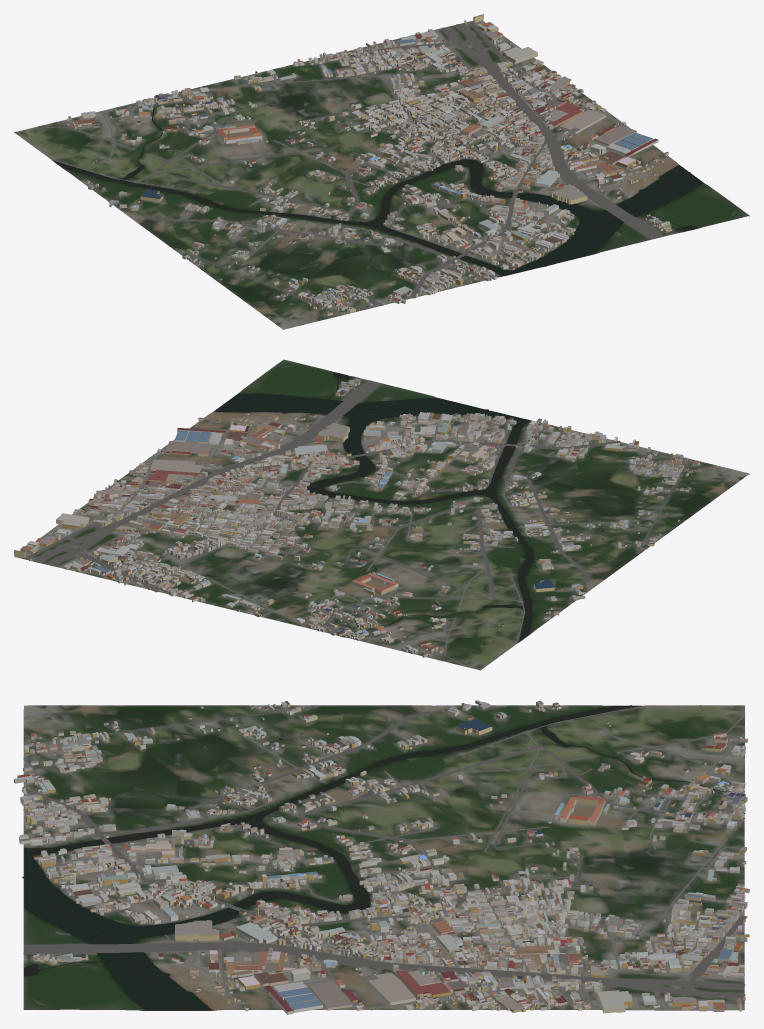
3 views of the same model, one above another, from view 1: azimuth 30°, elevation 25°; view 2: azimuth 150°, elevation 25°; view 3: azimuth 270°, elevation 25° (orthographic). The views are drawn at different scales.
Parts seen in each view (by area): view 1: ground, buildings, roads, water; view 2: ground, buildings, roads, water; view 3: ground, buildings, roads, water.
Boxes of the visible parts, box(x1,y1,x2,y2) form: ground: box(14, 20, 749, 329); buildings: box(67, 14, 671, 315); roads: box(20, 21, 670, 314); water: box(53, 104, 703, 276); ground: box(14, 359, 749, 670); buildings: box(14, 379, 699, 657); roads: box(23, 380, 689, 668); water: box(214, 372, 603, 641); ground: box(23, 705, 744, 1010); buildings: box(14, 700, 749, 1014); roads: box(21, 705, 747, 1010); water: box(22, 705, 726, 1010).
Bounding box in the file's own units: 1436 × 22.71 × 1430.
